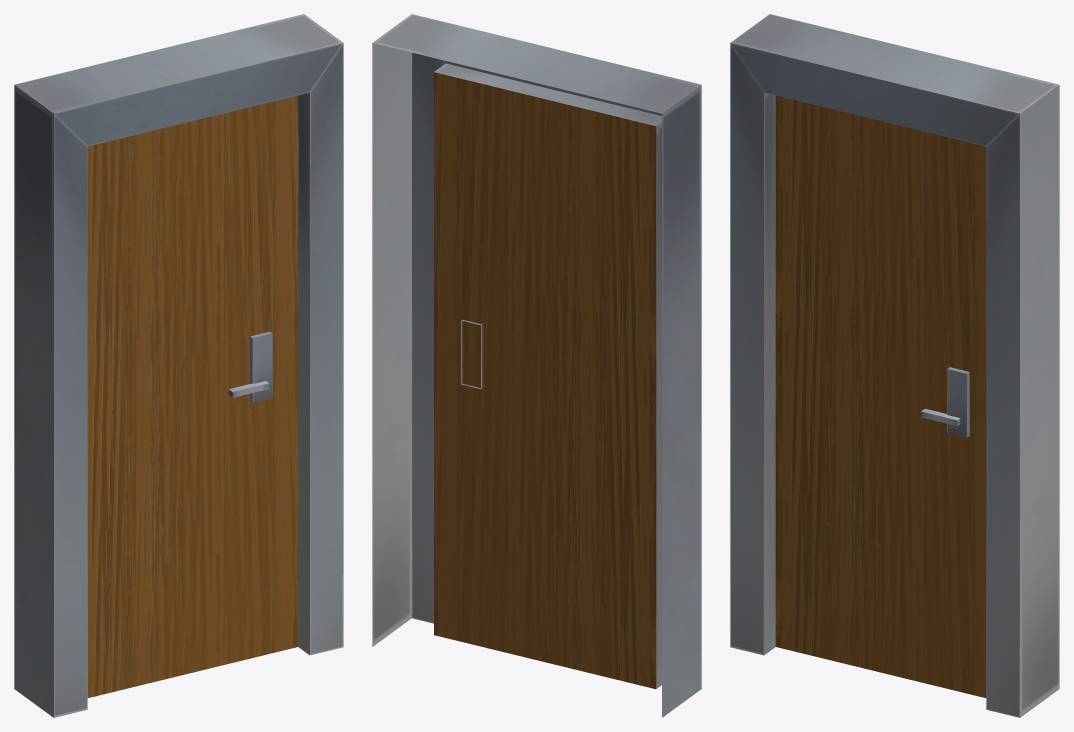
The model's file is Company_door.fbx.
3 views of the same model, side by side, from view 1: azimuth 30°, elevation 25°; view 2: azimuth 150°, elevation 25°; view 3: azimuth 330°, elevation 25° (orthographic).
Visible parts, largest first — view 1: Box206; view 2: Box206; view 3: Box206.
Part boxes in pixels (left/top/right/bottom): Box206: left=14, top=14, right=343, bottom=717; Box206: left=372, top=14, right=701, bottom=717; Box206: left=730, top=14, right=1059, bottom=717.
Bounding box in the file's own units: 1.02 × 2.03 × 0.2404.
1 material, 1 textured.
